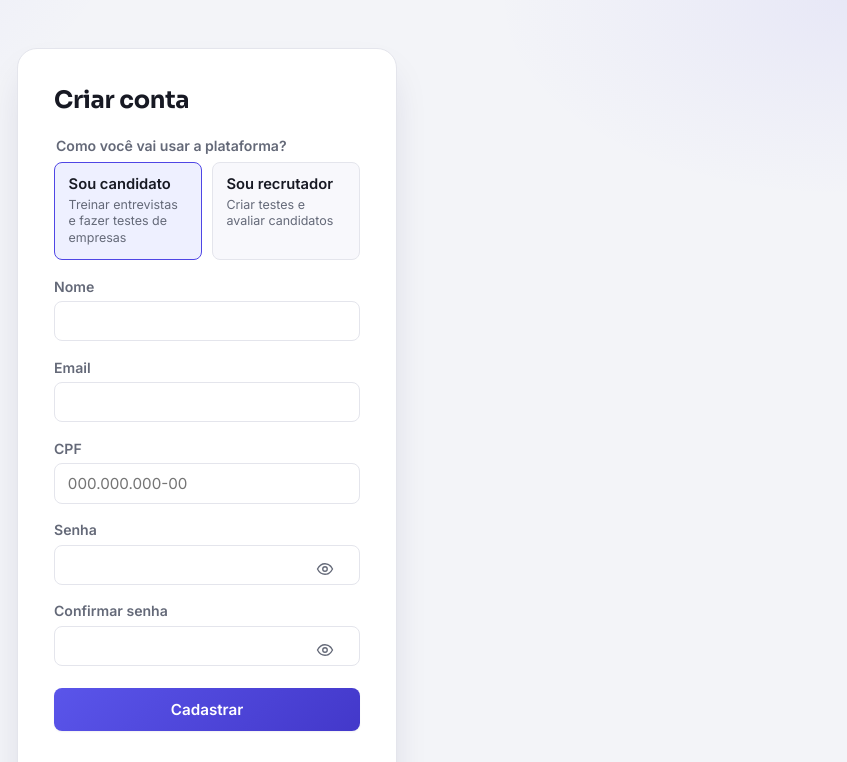
Test: RegisterPage › erro da API (ex.: email já usado) aparece na tela e não navega
Type "Bruno" into the field labelled "Nome".
click(207, 321); type("Bruno")  # box [54,301,360,341]
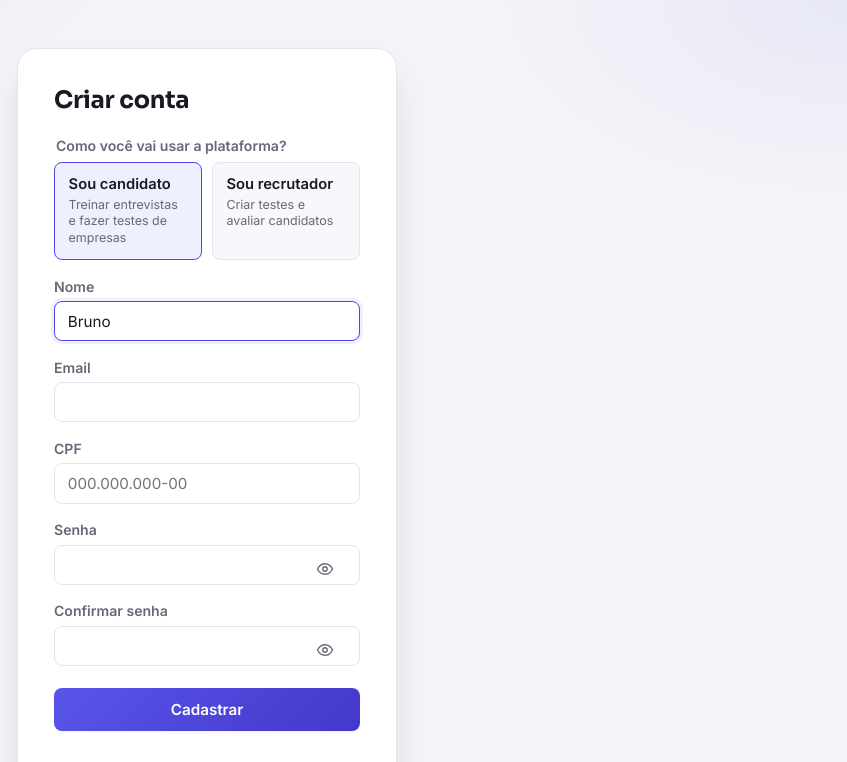
Type "bruno@teste.com" into the field labelled "Email".
click(207, 402); type("bruno@teste.com")  # box [54,382,360,422]
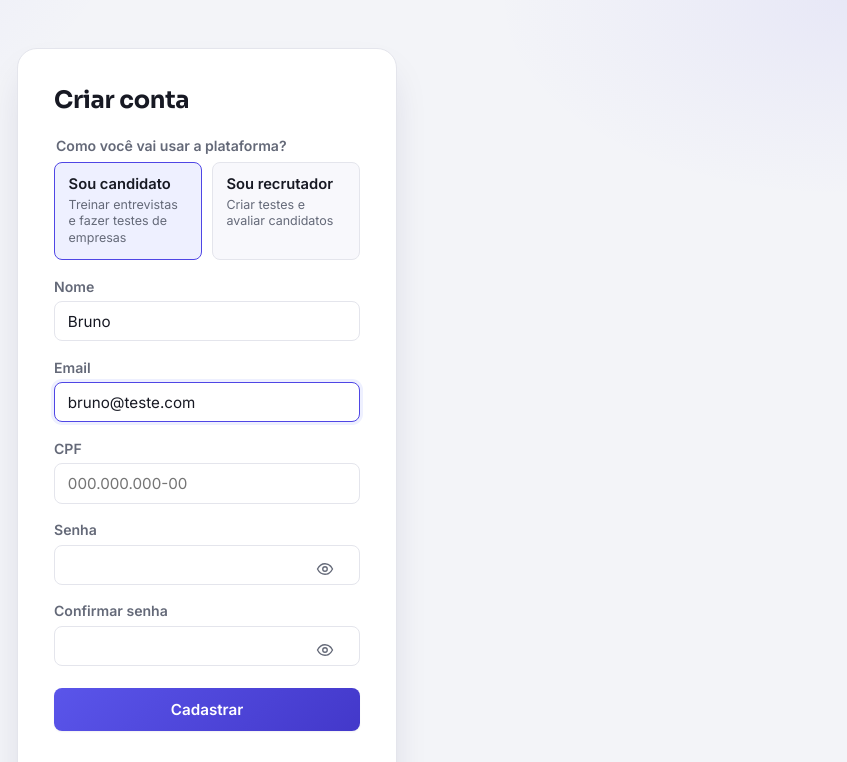
Type "529.982.247-25" into the field labelled "CPF".
click(207, 484); type("529.982.247-25")  # box [54,464,360,504]
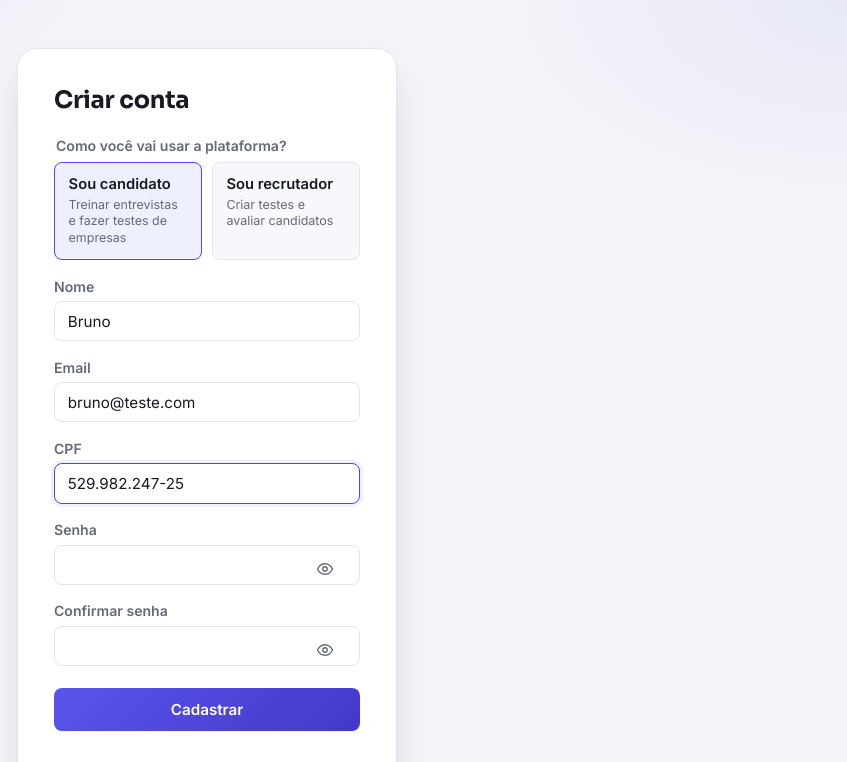
Type "segredo123" into the password field labelled "Senha".
click(207, 565); type("segredo123")  # box [54,545,360,585]
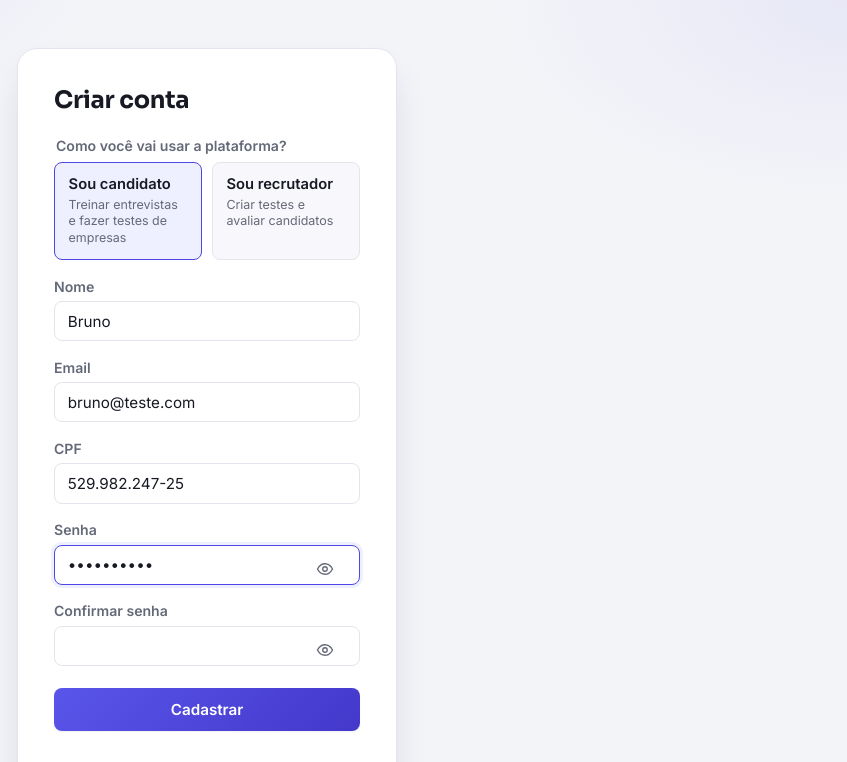
Type "segredo123" into the password field labelled "Confirmar senha".
click(207, 646); type("segredo123")  # box [54,626,360,666]
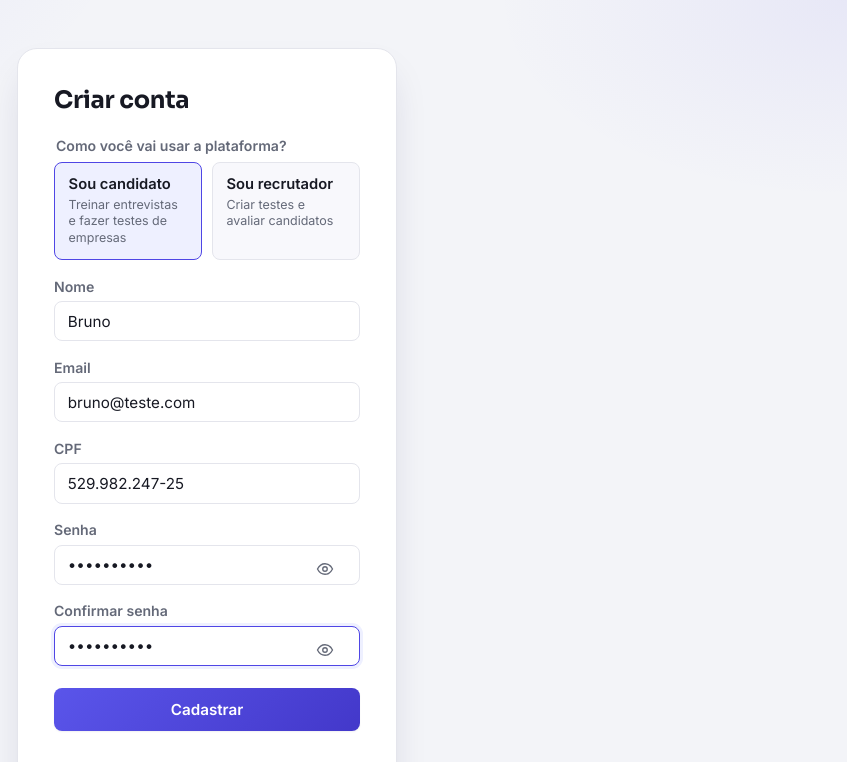
Click the button "Cadastrar".
click(207, 709)  # box [54,688,360,731]
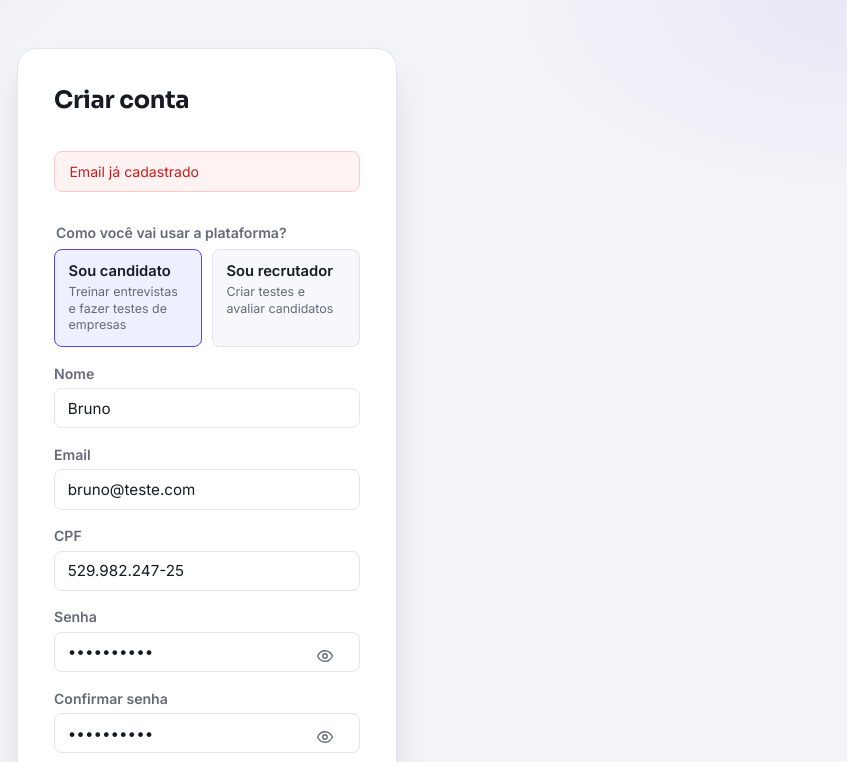
Now the text "Email já cadastrado" is shown, box [54,151,360,192]
